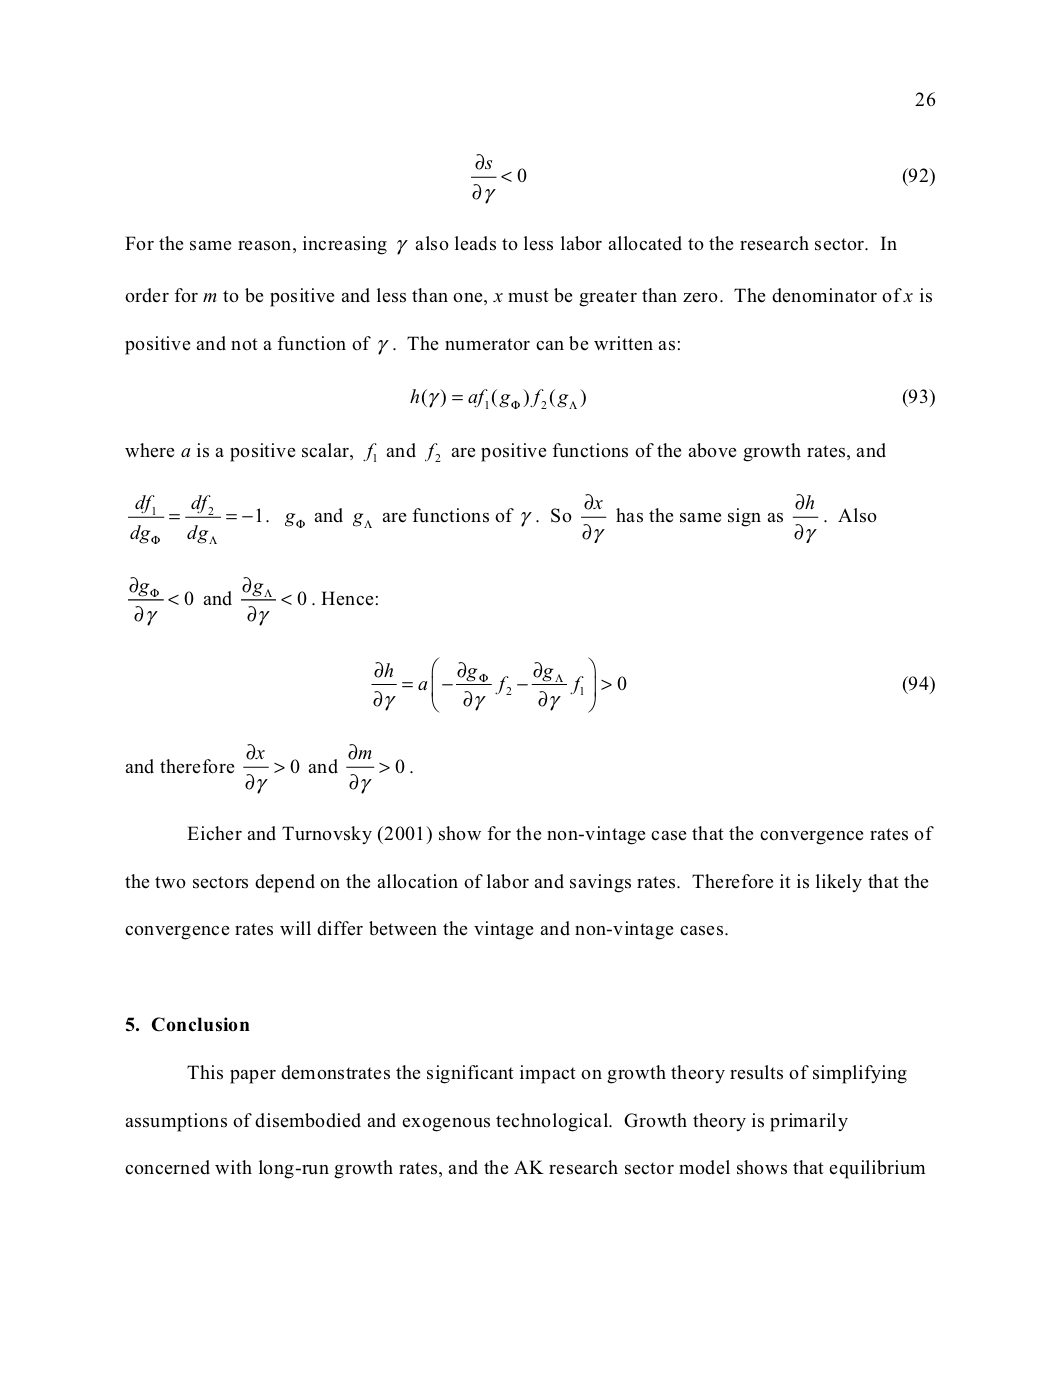formula: (371, 656, 934, 713), (471, 153, 934, 204), (410, 388, 934, 409)
